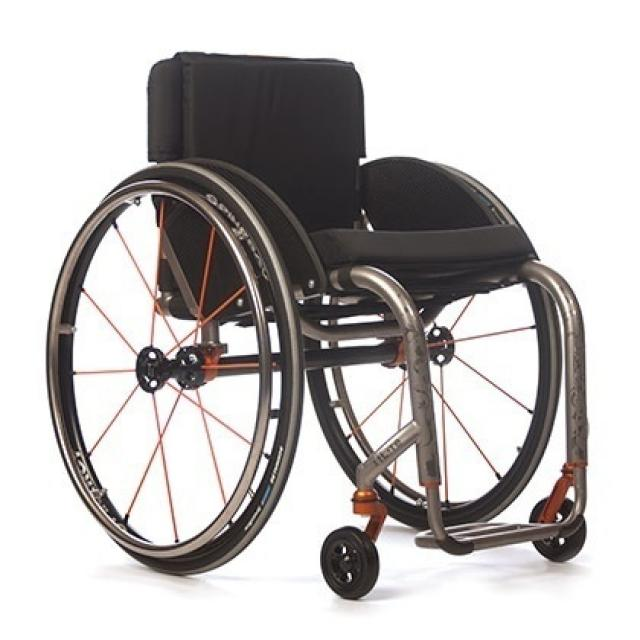wheelchair: (26, 26, 618, 606)
